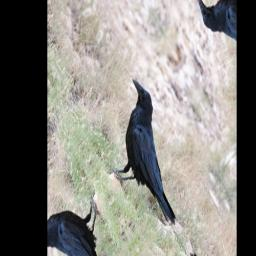Crow: (89, 71, 202, 254)
